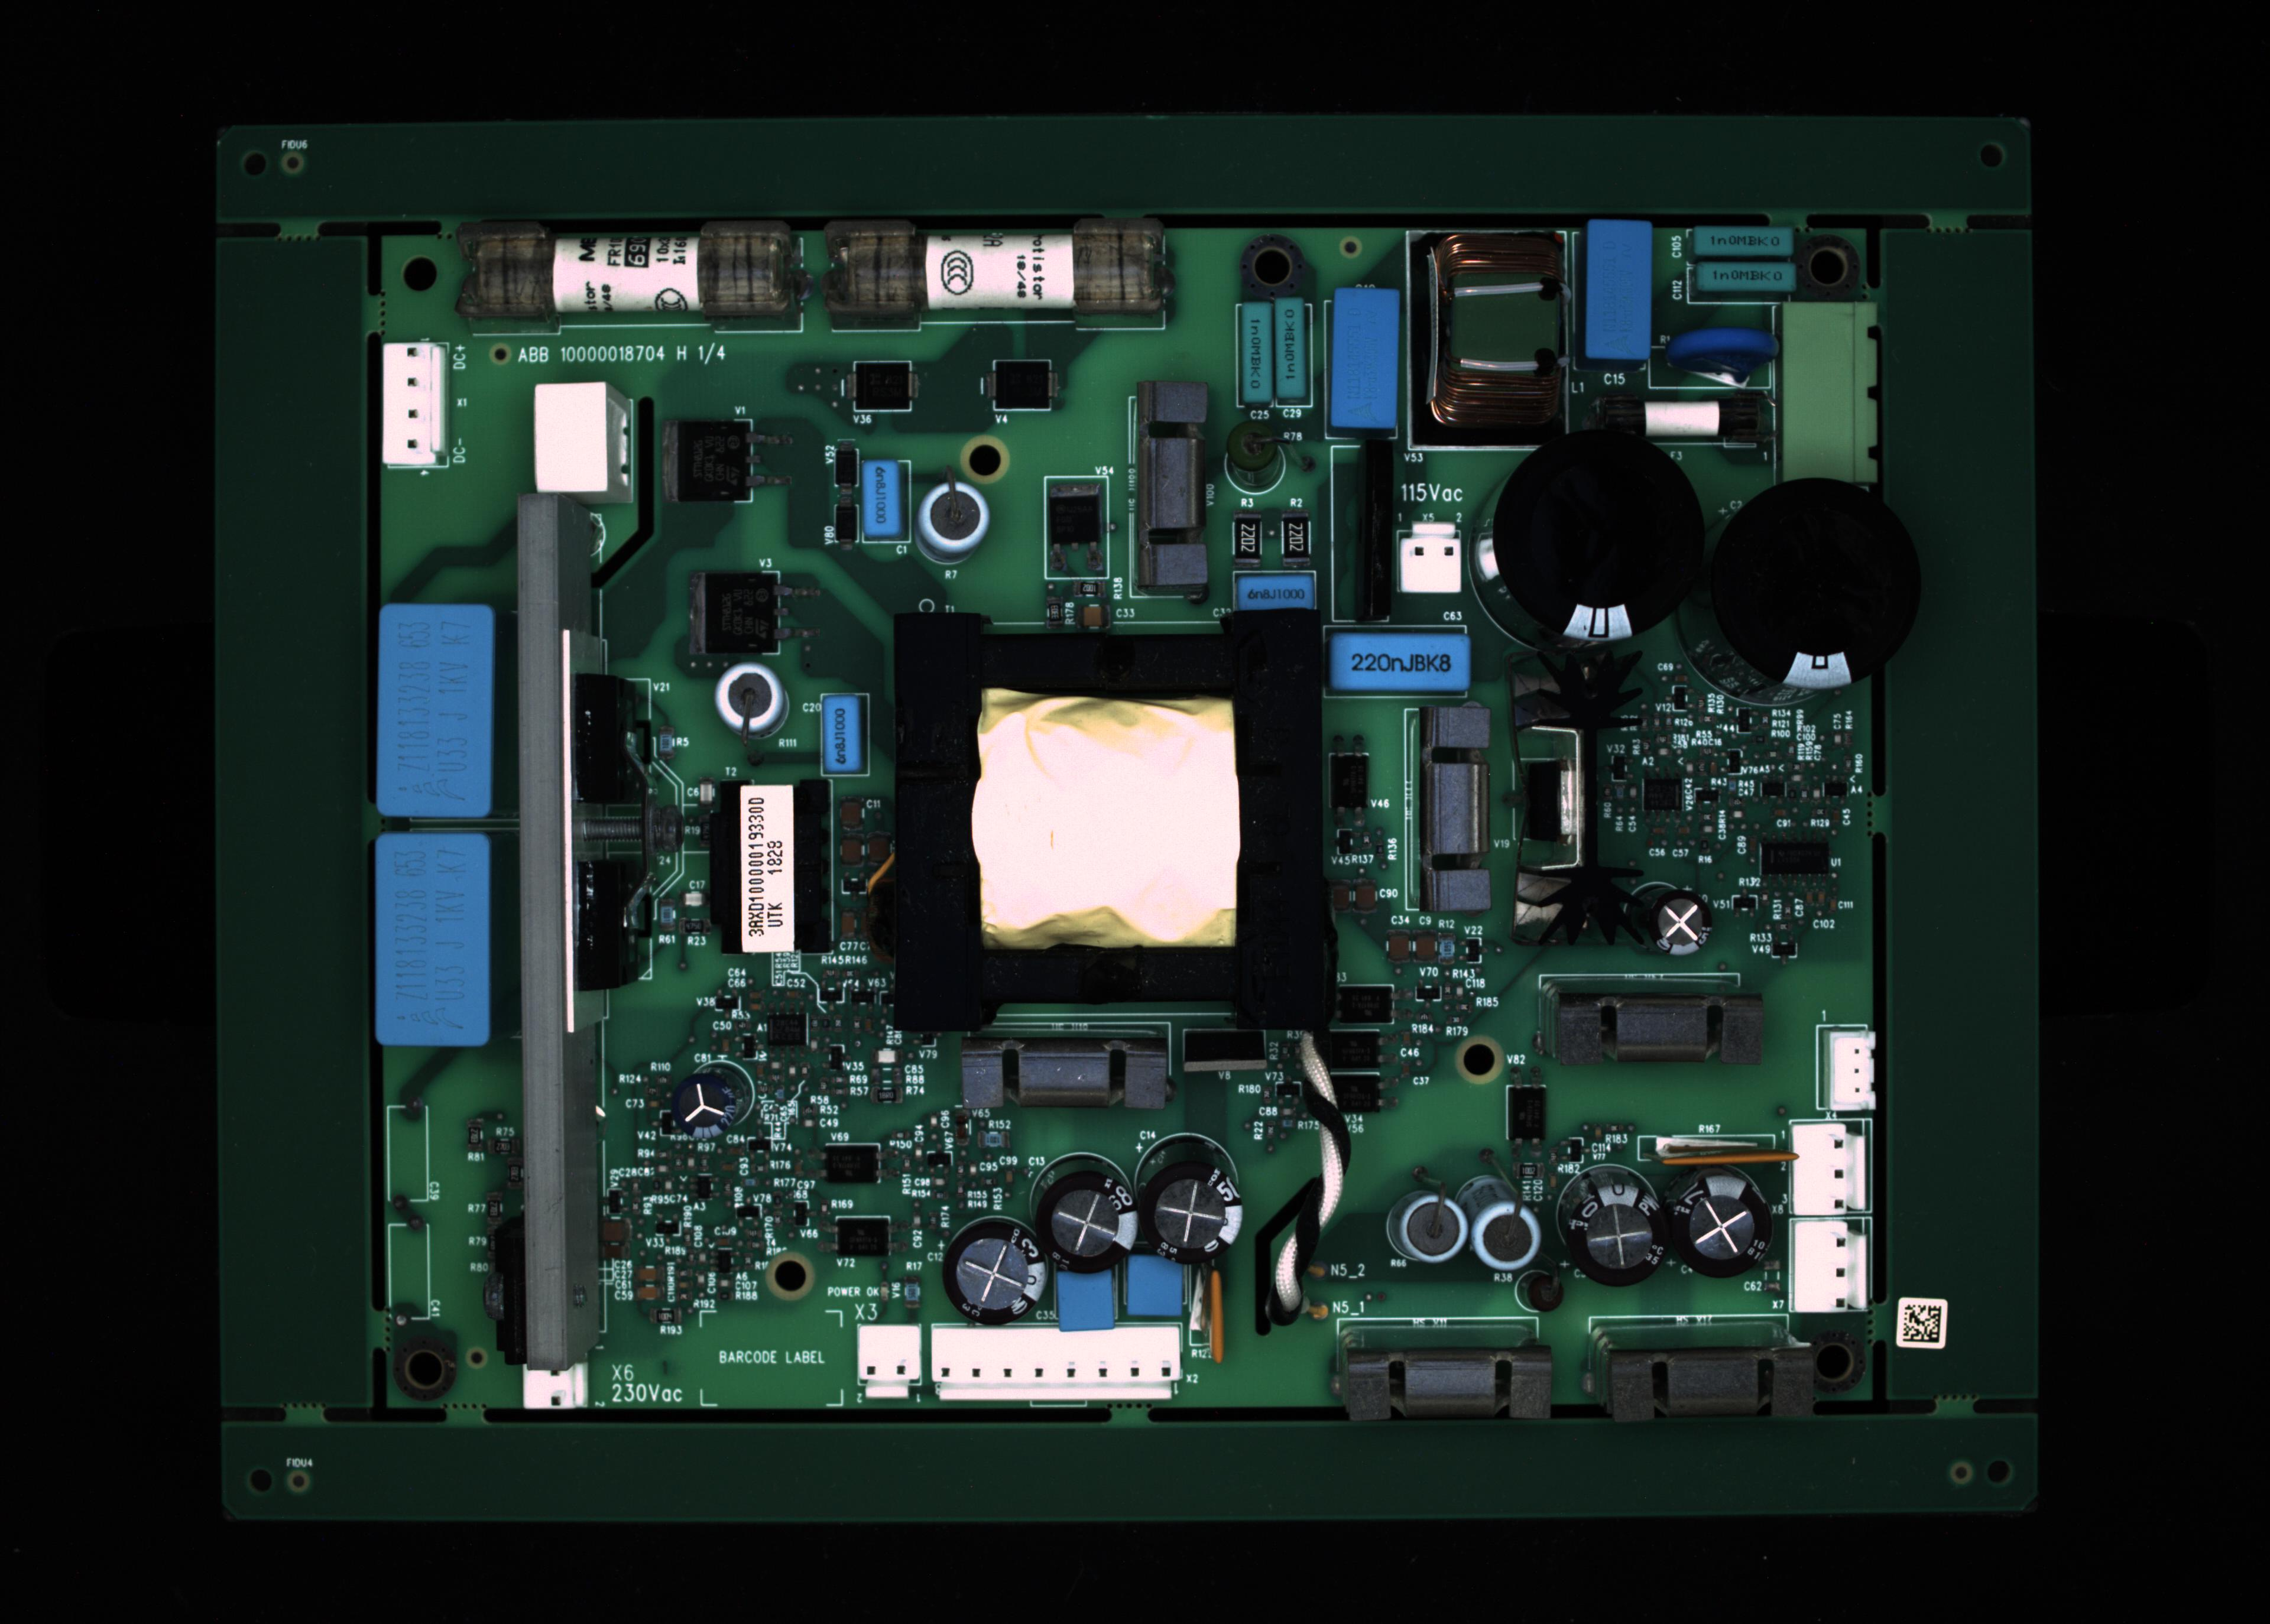10_p: (1648, 346, 1772, 394)
11_q: (1783, 306, 1880, 478)
12_r: (1591, 387, 1776, 455)
13_s: (380, 337, 447, 473)
14_t: (533, 380, 624, 494)
15_e: (863, 466, 902, 536)
16_k: (914, 478, 993, 554)
17_u: (1127, 385, 1206, 608)
18_v: (1234, 569, 1317, 615)
19_w: (1328, 633, 1468, 691)
1_a: (457, 213, 812, 329)
20_f: (1401, 522, 1463, 598)
21_g: (1482, 429, 1704, 642)
22_g: (1699, 482, 1927, 685)
23_h: (375, 605, 492, 819)
24_h: (369, 833, 496, 1046)
25_f: (519, 1362, 593, 1413)
26_f: (856, 1325, 923, 1399)
27_x: (930, 1329, 1183, 1404)
28_i: (1131, 1135, 1247, 1264)
29_i: (1027, 1153, 1134, 1274)
2_a: (819, 216, 1175, 330)
30_i: (941, 1216, 1055, 1339)
31_j: (1050, 1267, 1120, 1339)
32_j: (1120, 1255, 1194, 1325)
33_e: (821, 692, 860, 777)
34_k: (1373, 1181, 1465, 1281)
35_k: (1456, 1178, 1542, 1271)
36_i: (1556, 1164, 1672, 1295)
37_i: (1663, 1160, 1786, 1290)
38_l: (1333, 1348, 1560, 1424)
39_l: (1584, 1350, 1813, 1418)
3_b: (1241, 295, 1270, 402)
40_l: (1539, 986, 1771, 1067)
41_y: (1407, 678, 1505, 919)
42_z: (1830, 1028, 1880, 1109)
43_m: (1788, 1120, 1864, 1216)
44_m: (1788, 1225, 1867, 1309)
45_i: (679, 1065, 756, 1142)
46_n: (1338, 982, 1398, 1030)
47_n: (826, 1142, 881, 1183)
48_n: (839, 1216, 893, 1257)
49_aa: (765, 1009, 809, 1048)
4_b: (1280, 299, 1306, 402)
50_n: (1321, 1030, 1382, 1069)
51_n: (1308, 1070, 1379, 1111)
52_ab: (1329, 740, 1377, 831)
53_ac: (1656, 1130, 1790, 1165)
54_ad: (1194, 1253, 1222, 1364)
55_l: (962, 1035, 1171, 1106)
56_ae: (1176, 1025, 1271, 1069)
57_af: (1509, 647, 1635, 951)
58_i: (1649, 884, 1714, 956)
59_o: (995, 360, 1051, 410)
5_c: (1333, 286, 1400, 425)
60_o: (851, 360, 911, 413)
6_ag: (1405, 232, 1572, 452)
7_c: (1582, 218, 1649, 353)
8_d: (1693, 227, 1792, 258)
9_d: (1704, 262, 1793, 292)
